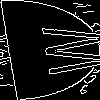W: (24, 25, 100, 76)
